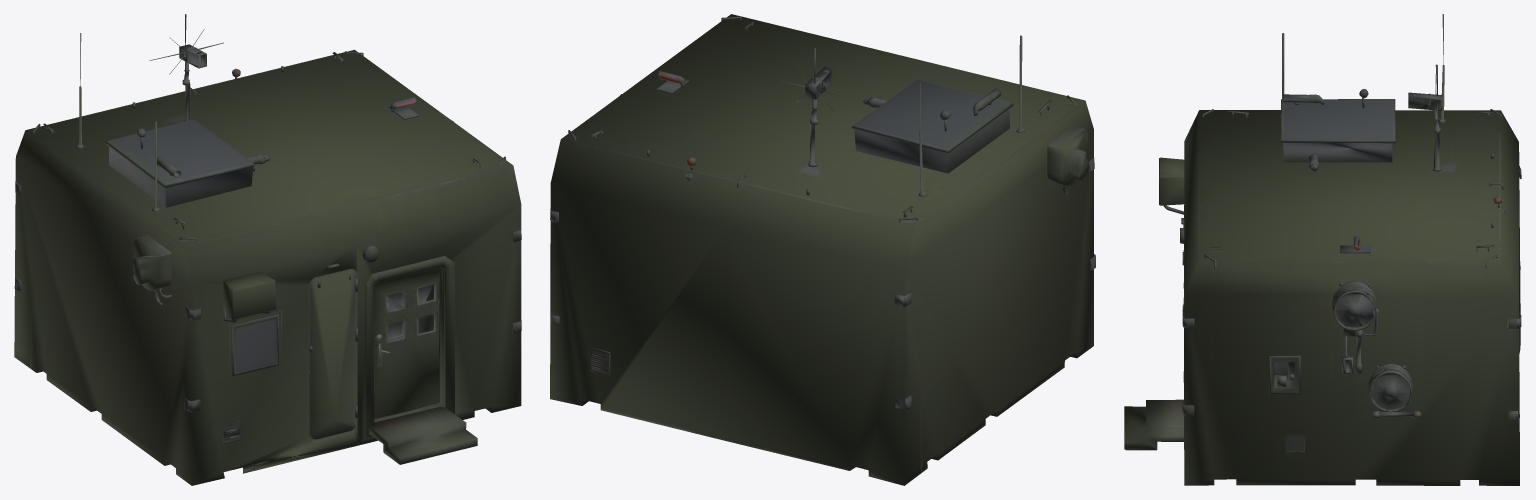
The model's file is h_barracks.glb.
The picture shows the model from 3 angles, left to right: view 1: azimuth 30°, elevation 25°; view 2: azimuth 150°, elevation 25°; view 3: azimuth 270°, elevation 25°; orthographic projection. The views are drawn at different scales.
Size of the model in its own units: 0.9556 by 0.8472 by 0.9219.
Materials: 1 (1 with a texture image).
